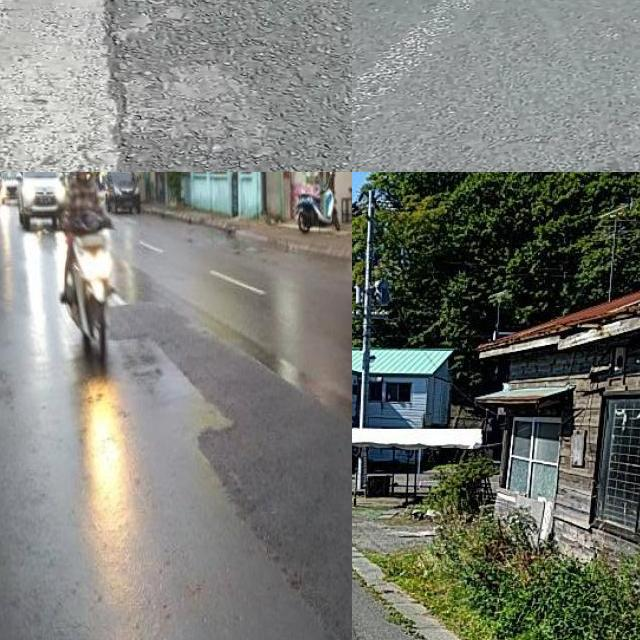Sambungan: (101, 300, 352, 621), (0, 0, 150, 172)
